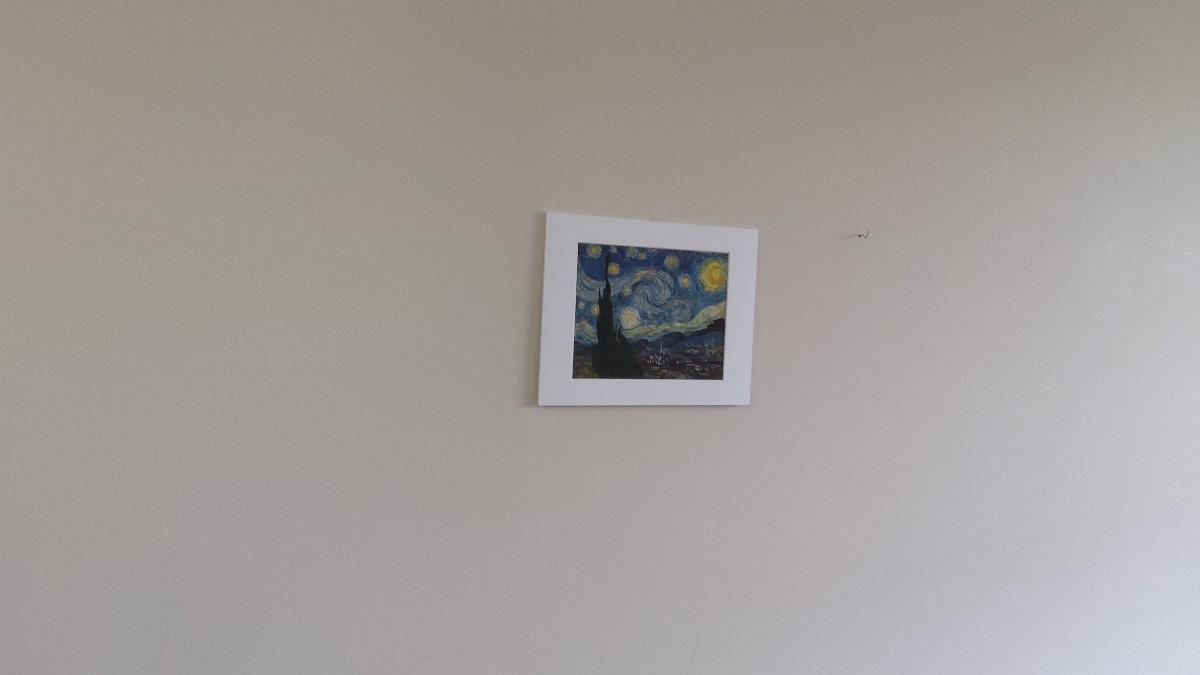painting: (565, 235, 741, 391)
